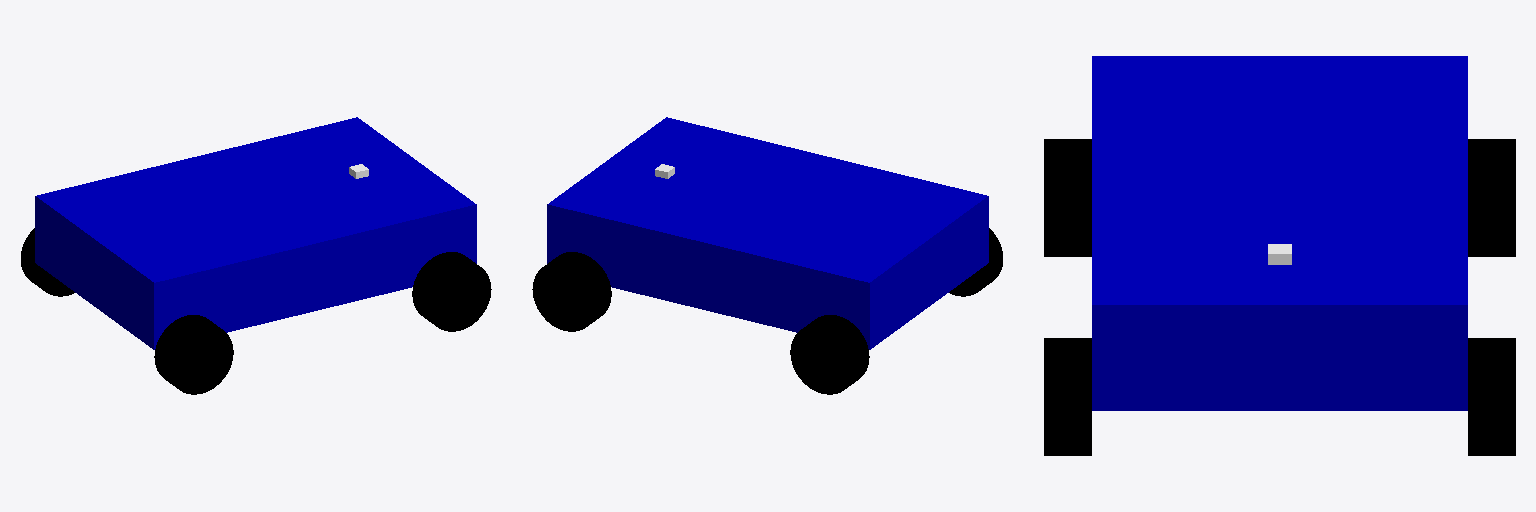
URDF robot description (mybot):
<?xml version="1.0"?>
<robot name="mybot">

  <link name="base_footprint" />

  <joint name="base_joint" type="fixed">
    <parent link="base_footprint" />
    <child link="base_link" />
    <origin rpy="0 0 0" xyz="0 0 0" />
  </joint>

  <link name="base_link">
    <inertial>
      <origin xyz="0 0 0" rpy="0 0 0" />
      <mass value="0.1" />
      <inertia ixx="0.1" ixy="0" ixz="0" iyy="0.1" iyz="0" izz="0.1" />
    </inertial>

    <visual>
      <geometry>
        <box size="0.25 0.16 0.05" />
      </geometry>
      <origin rpy="0 0 0" xyz="0 0 0" />
      <material name="blue">
        <color rgba="0 0 0.8 1" />
      </material>
    </visual>

    <collision>
      <origin xyz="0 0 0" rpy="0 0 0" />
      <geometry>
        <box size="0.25 0.16 0.05" />
      </geometry>
    </collision>

  </link>

  <link name="right_wheel_link">
    <inertial>
      <origin xyz="0 0 0" rpy="0 0 0" />
      <mass value="0.1" />
      <inertia ixx="0.1" ixy="0" ixz="0" iyy="0.1" iyz="0" izz="0.1" />
    </inertial>

    <visual>
      <geometry>
        <cylinder length="0.02" radius="0.025" />
      </geometry>
      <material name="black">
        <color rgba="0 0 0 1" />
      </material>
    </visual>
  </link>

  <link name="right_front_wheel_link">
    <inertial>
      <origin xyz="0 0 0" rpy="0 0 0" />
      <mass value="0.1" />
      <inertia ixx="0.1" ixy="0" ixz="0" iyy="0.1" iyz="0" izz="0.1" />
    </inertial>

    <visual>
      <geometry>
        <cylinder length="0.02" radius="0.025" />
      </geometry>
      <material name="black">
        <color rgba="0 0 0 1" />
      </material>
    </visual> 0 <collision>
      <origin xyz="0 0 0" rpy="0 0 0" />
      <geometry>
        <cylinder length="0.02" radius="0.025" />
      </geometry>
    </collision>
  </link>

  <joint name="right_wheel_joint" type="continuous">
    <axis xyz="0 0 -1" />
    <parent link="base_link" />
    <child link="right_wheel_link" />
    <origin rpy="1.5707 0 0" xyz=" 0.1 -0.09 -0.03" />
  </joint>

  <joint name="right_front_wheel_joint" type="continuous">
    <axis xyz="0 0 -1" />
    <parent link="base_link" />
    <child link="right_front_wheel_link" />
    <origin rpy="1.5707 0 0" xyz=" -0.1 -0.09 -0.03" />
  </joint>

  <link name="left_wheel_link">
    <inertial>
      <origin xyz="0 0 0" rpy="0 0 0" />
      <mass value="0.1" />
      <inertia ixx="0.1" ixy="0" ixz="0" iyy="0.1" iyz="0" izz="0.1" />
    </inertial>

    <visual>
      <geometry>
        <cylinder length="0.02" radius="0.025" />
      </geometry>
      <material name="black">
        <color rgba="0 0 0 1" />
      </material>
    </visual>

    <collision>
      <origin xyz="0 0 0" rpy="0 0 0" />
      <geometry>
        <cylinder length="0.02" radius="0.025" />
      </geometry>
    </collision>
  </link>

  <link name="left_front_wheel_link">
    <inertial>
      <origin xyz="0 0 0" rpy="0 0 0" />
      <mass value="0.1" />
      <inertia ixx="0.1" ixy="0" ixz="0" iyy="0.1" iyz="0" izz="0.1" />
    </inertial>

    <visual>
      <geometry>
        <cylinder length="0.02" radius="0.025" />
      </geometry>
      <material name="black">
        <color rgba="0 0 0 1" />
      </material>
    </visual>

    <collision>
      <origin xyz="0 0 0" rpy="0 0 0" />
      <geometry>
        <cylinder length="0.02" radius="0.025" />
      </geometry>
    </collision>
  </link>

  <joint name="left_wheel_joint" type="continuous">
    <axis xyz="0 0 -1" />
    <parent link="base_link" />
    <child link="left_wheel_link" />
    <origin rpy="1.5707 0 0" xyz="0.1 0.09 -0.03" />
  </joint>

  <joint name="left_front_wheel_joint" type="continuous">
    <axis xyz="0 0 -1" />
    <parent link="base_link" />
    <child link="left_front_wheel_link" />
    <origin rpy="1.5707 0 0" xyz="-0.1 0.09 -0.03" />
  </joint>

  <!-- imu sensor -->
  <link name="imu">
    <visual>
      <geometry>
        <box size="0.01 0.01 0.01" />
      </geometry>
      <material name="white">
        <color rgba="1 1 1 1 " />
      </material>
    </visual>
  </link>

  <joint name="imu_joint" type="fixed">
    <parent link="base_link" />
    <child link="imu" />
    <origin xyz="0.08 0 0.025" />
  </joint>

</robot>

--- Render facts (derived) ---
3 views of the same robot in one strip: view 1: azimuth 30°, elevation 25°; view 2: azimuth 150°, elevation 25°; view 3: azimuth 270°, elevation 25° (orthographic).
Model mybot with 7 links and 6 joints (4 continuous, 2 fixed), rooted at base_footprint, posed every joint at zero.
Links seen in each view (by area): view 1: base_link, right_wheel_link, right_front_wheel_link, left_front_wheel_link; view 2: base_link, left_wheel_link, left_front_wheel_link, right_front_wheel_link; view 3: base_link, right_wheel_link, right_front_wheel_link, left_wheel_link, left_front_wheel_link.
Link boxes in pixels (box(x1,y1,x2,y2)): base_link: box(35, 117, 476, 349); right_wheel_link: box(412, 252, 491, 331); right_front_wheel_link: box(154, 315, 233, 394); left_front_wheel_link: box(21, 228, 74, 296); base_link: box(547, 117, 988, 349); left_wheel_link: box(532, 252, 611, 331); left_front_wheel_link: box(790, 315, 869, 394); right_front_wheel_link: box(949, 228, 1002, 296); base_link: box(1092, 56, 1467, 410); right_wheel_link: box(1044, 338, 1091, 455); right_front_wheel_link: box(1044, 139, 1091, 256); left_wheel_link: box(1468, 338, 1515, 455); left_front_wheel_link: box(1468, 139, 1515, 256).
Bounding box of the posed robot: 0.25 × 0.2 × 0.085 m (x, y, z).
Geometry: primitives only (box / cylinder / sphere), no mesh files.